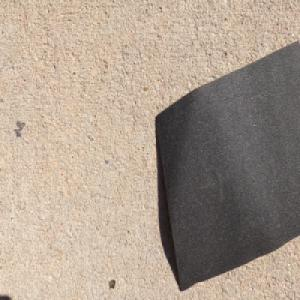PaintChip: (154, 38, 300, 289)
